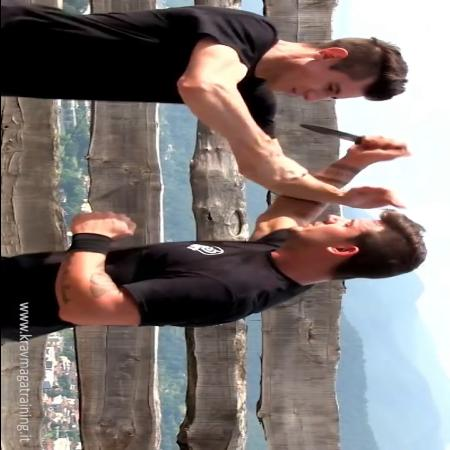long weapon: (292, 119, 410, 161)
